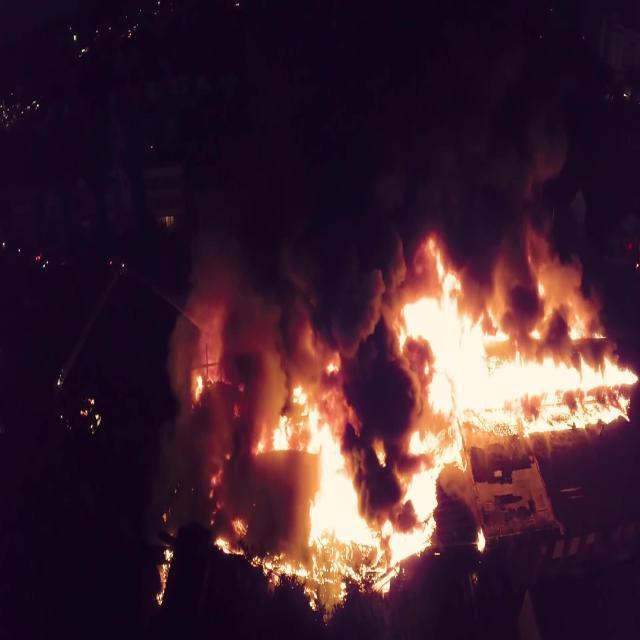Fire: (395, 284, 640, 438), (252, 388, 394, 602), (406, 418, 454, 583)
Smoke: (89, 30, 510, 224)
